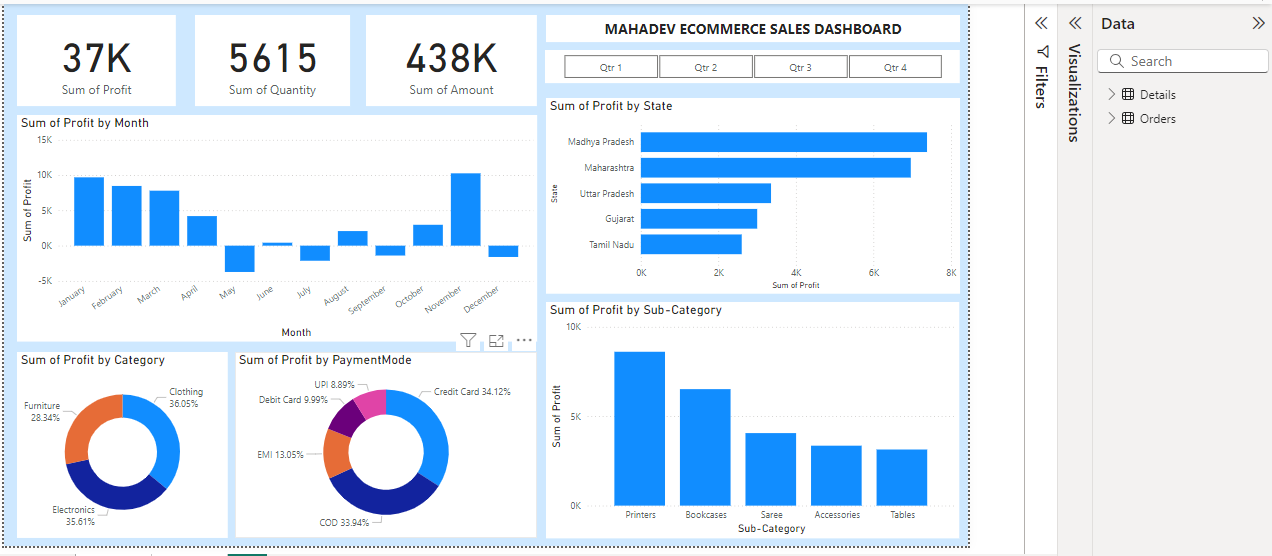

This screenshot's page, from the dashboard's own definition file:
{"tool":"powerbi","page":{"name":"Page 1","canvas":[1280,720],"ordinal":0},"visuals":[{"type":"columnChart","fields":{"Category":["Orders.Order Date.Variation.Date Hierarchy.Month"],"Y":["Sum(Details.Profit)"]},"box":[17.1,147.1,691.4,301.4],"z":0},{"type":"columnChart","fields":{"Category":["Details.Sub-Category"],"Y":["Sum(Details.Profit)"]},"box":[720,397.1,550,312.9],"z":1000},{"type":"donutChart","fields":{"Category":["Details.PaymentMode"],"Y":["Sum(Details.Profit)"]},"box":[307.1,462.9,401.4,247.1],"z":1001},{"type":"donutChart","fields":{"Category":["Details.Category"],"Y":["Sum(Details.Profit)"]},"box":[17.1,462.9,280,247.1],"z":1002},{"type":"clusteredBarChart","fields":{"Category":["Orders.State"],"Y":["Sum(Details.Profit)"]},"box":[720,124.3,550,260],"z":1003},{"type":"card","fields":{"Values":["Sum(Details.Profit)"]},"box":[17.1,14.3,211.4,121.4],"z":1004},{"type":"card","fields":{"Values":["Sum(Details.Amount)"]},"box":[481.4,14.3,227.1,121.4],"z":1005},{"type":"card","fields":{"Values":["Sum(Details.Quantity)"]},"box":[254.3,14.3,205.7,121.4],"z":1006},{"type":"slicer","fields":{"Values":["Orders.Order Date.Variation.Date Hierarchy.Quarter"]},"box":[718.6,61.4,551.4,44.3],"z":1007},{"type":"textbox","box":[720,14.3,550,35.7],"z":1008}]}

Visuals, with their boxes on the page's 1280x720 design canvas (x1, y1, x2, y2). These are canvas units, not pixel positions in the 1272x556 screenshot, which may show the page scaled, cropped or inside an application window:
columnChart - Orders.Order Date.Variation.Date Hierarchy.Month x Sum(Details.Profit): bbox(17, 147, 708, 448)
columnChart - Details.Sub-Category x Sum(Details.Profit): bbox(720, 397, 1270, 710)
donutChart - Details.PaymentMode x Sum(Details.Profit): bbox(307, 463, 708, 710)
donutChart - Details.Category x Sum(Details.Profit): bbox(17, 463, 297, 710)
clusteredBarChart - Orders.State x Sum(Details.Profit): bbox(720, 124, 1270, 384)
card - Sum(Details.Profit): bbox(17, 14, 228, 136)
card - Sum(Details.Amount): bbox(481, 14, 708, 136)
card - Sum(Details.Quantity): bbox(254, 14, 460, 136)
slicer - Orders.Order Date.Variation.Date Hierarchy.Quarter: bbox(719, 61, 1270, 106)
textbox: bbox(720, 14, 1270, 50)
